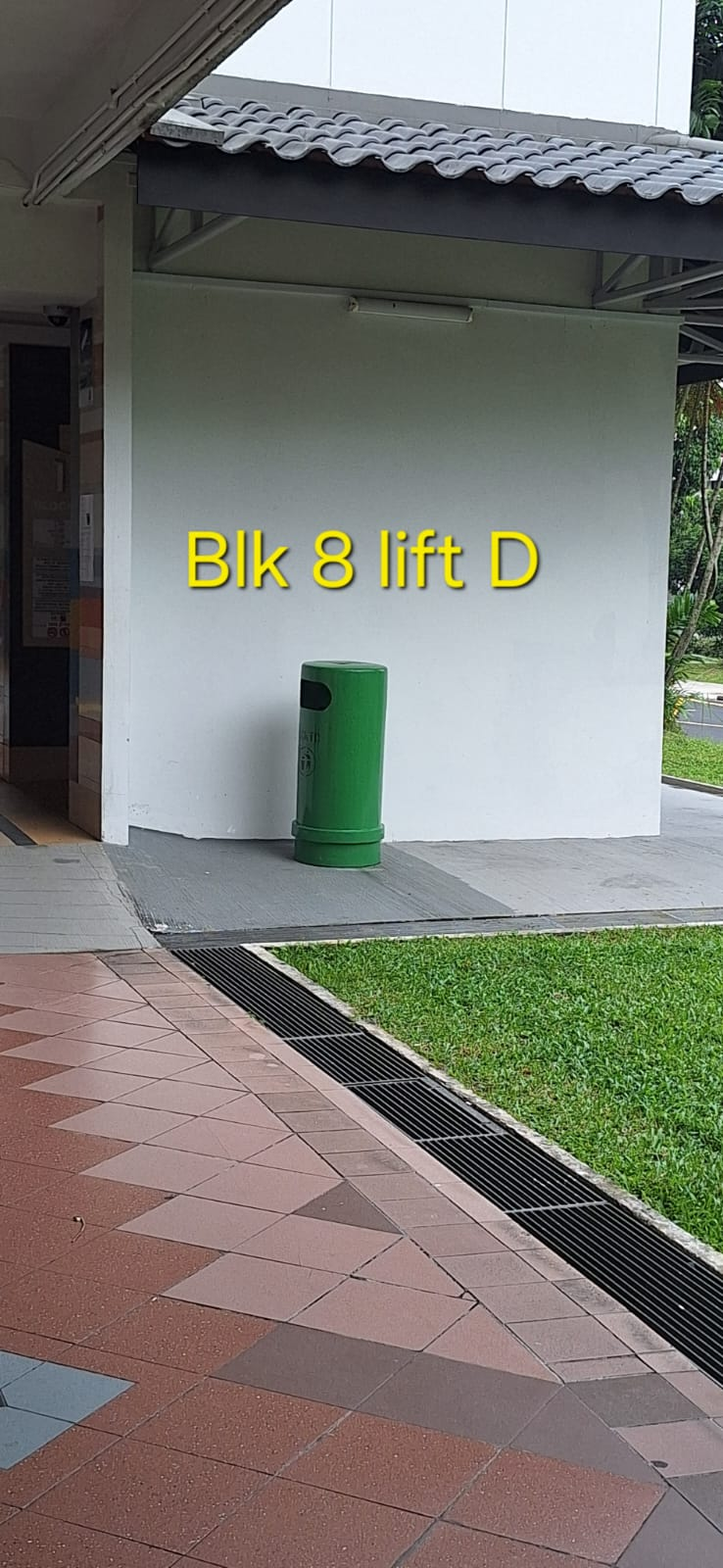bin_empty: (292, 661, 386, 867)
